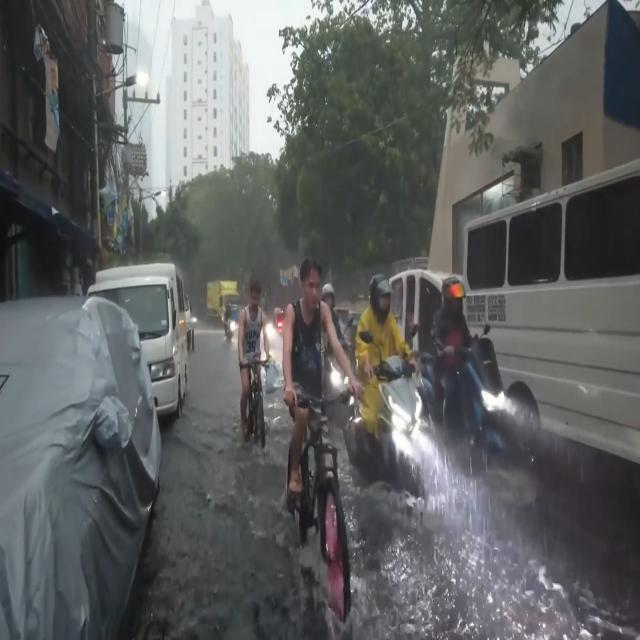full: (369, 273, 392, 323), (442, 277, 466, 318)
half: (321, 283, 335, 310)
